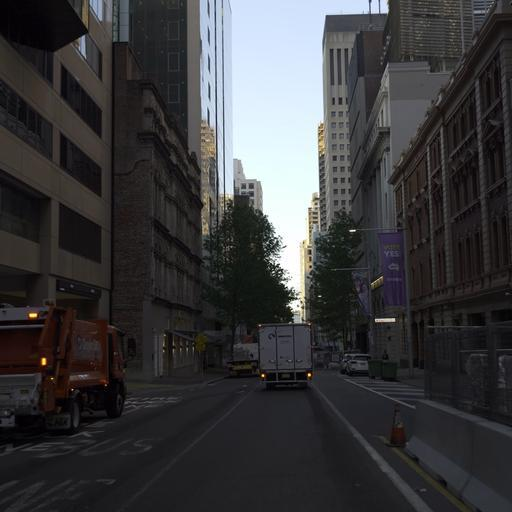Street light: (347, 224, 413, 377), (330, 264, 374, 356), (347, 225, 405, 233)
